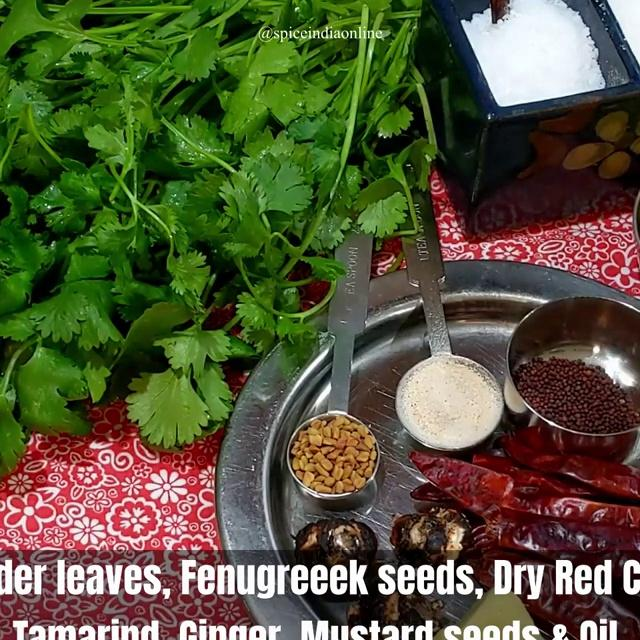cilantro: (0, 0, 312, 400)
